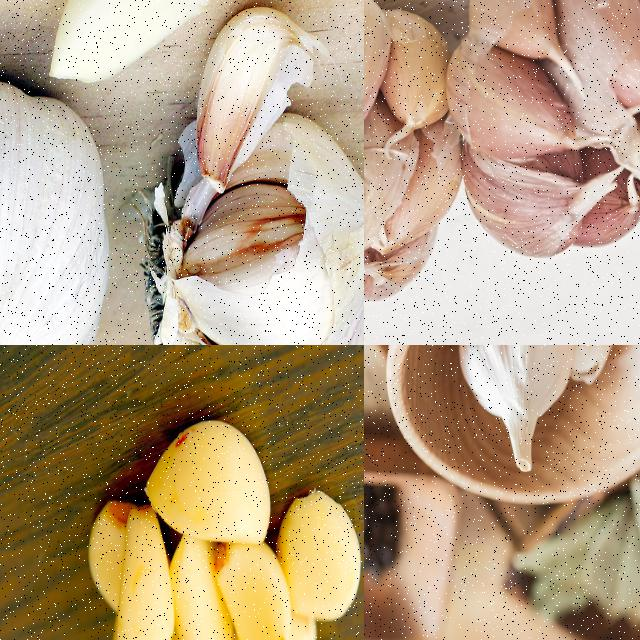garlic: (84, 404, 363, 639), (143, 114, 363, 344), (459, 0, 639, 257), (364, 0, 467, 313), (0, 59, 110, 344), (187, 0, 320, 189), (456, 345, 574, 475), (44, 0, 218, 82)
